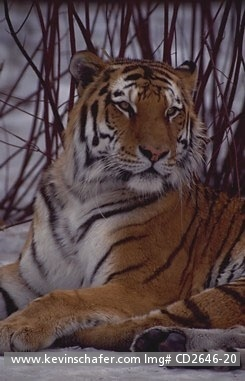tigre: (1, 45, 241, 359)
